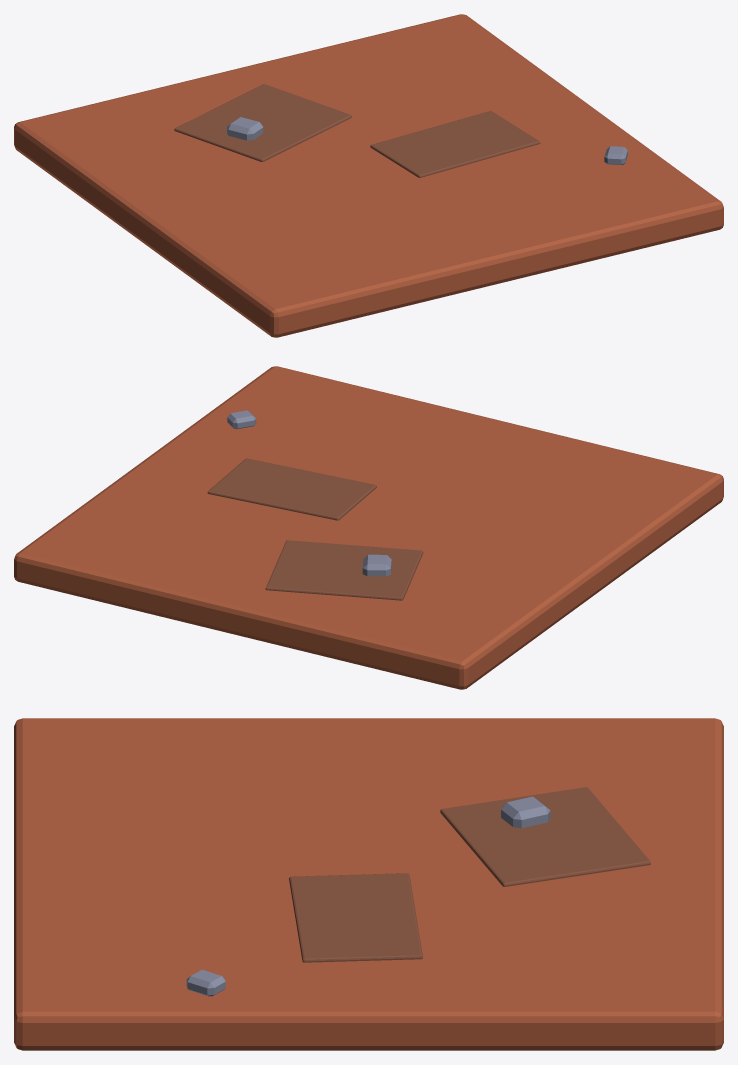
Rendered from mine-floor.glb.
3 renders of one model, top to bottom at view 1: azimuth 30°, elevation 25°; view 2: azimuth 150°, elevation 25°; view 3: azimuth 270°, elevation 25°, orthographic. The views are drawn at different scales.
Parts seen in each view (by area): view 1: mine-floor; view 2: mine-floor; view 3: mine-floor.
Boxes of the visible parts, x1,y1,x2,y2 form: mine-floor: [14, 14, 723, 337]; mine-floor: [14, 366, 723, 689]; mine-floor: [14, 718, 723, 1050].
Bounding box in the file's own units: 1 × 0.0869 × 1.
Materials: 1 (1 with a texture image).
